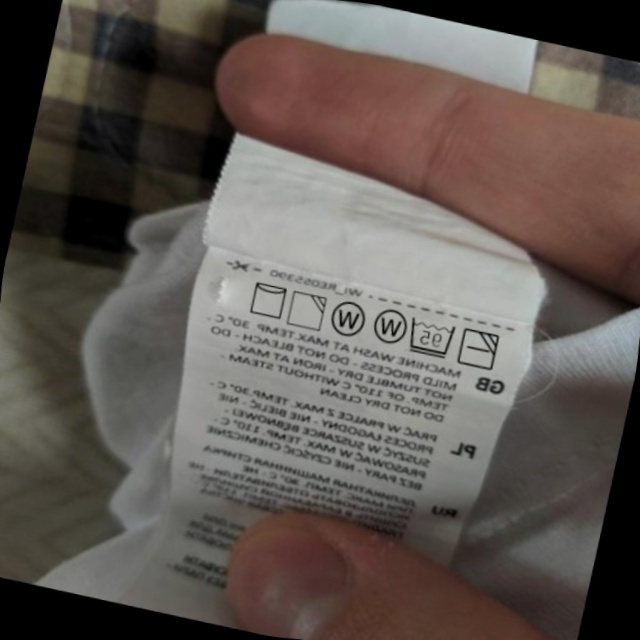95C: (401, 311, 461, 363)
dry_flat_in_shade: (453, 322, 505, 376)
line_dry: (243, 275, 293, 324)
shade_dry: (282, 285, 332, 336)
wet_clean: (324, 295, 372, 344), (366, 300, 413, 350)
